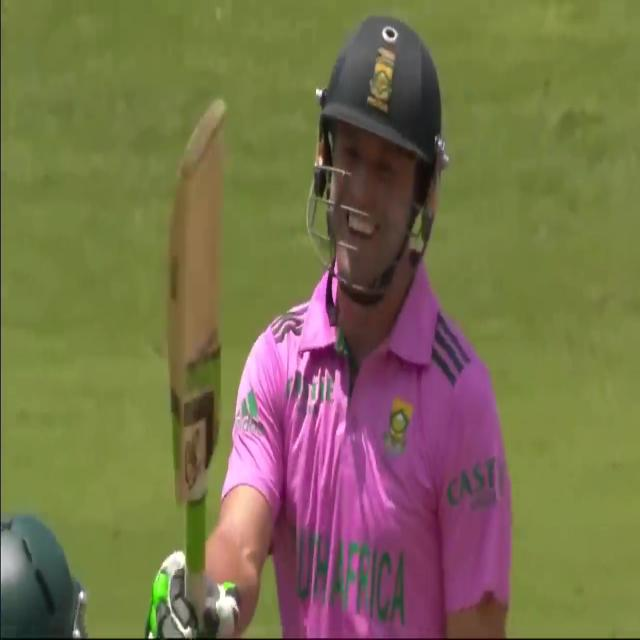Ball: (224, 4, 518, 636)
